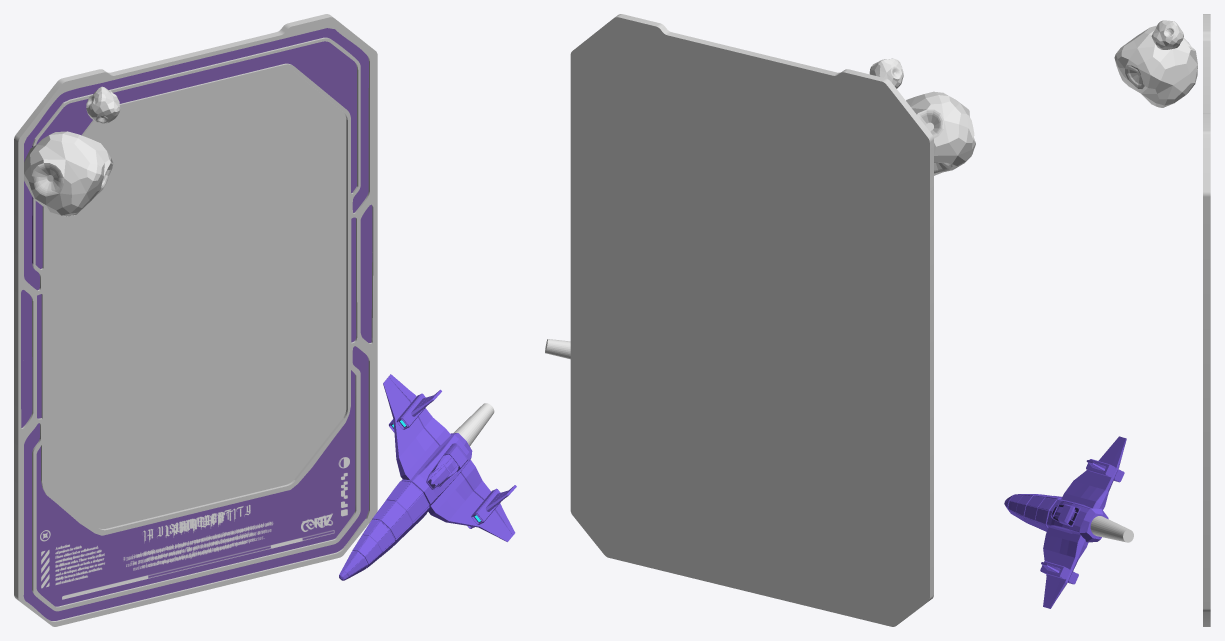
File: card-work-w-all-textures.glb
3 views of the same model, side by side, from view 1: azimuth 30°, elevation 25°; view 2: azimuth 150°, elevation 25°; view 3: azimuth 270°, elevation 25° (orthographic). The views are drawn at different scales.
Parts seen in each view (by area): view 1: PortalPlane, Cube.002, Turbinas, asteroid, wortise-texturev1, shopflex-texturev1, card-texturev1, asteroid.001, Propulsion-shape; view 2: Cube.002, asteroid, asteroid.001; view 3: Turbinas, Cube.002, asteroid, Propulsion-shape, asteroid.001.
Boxes of the visible parts, x1,y1,x2,y2 form: PortalPlane: [47, 68, 346, 528]; Cube.002: [14, 14, 377, 626]; Turbinas: [339, 374, 516, 580]; asteroid: [24, 131, 113, 216]; wortise-texturev1: [40, 457, 349, 599]; shopflex-texturev1: [40, 457, 346, 596]; card-texturev1: [40, 457, 349, 599]; asteroid.001: [86, 86, 120, 123]; Propulsion-shape: [453, 403, 494, 446]; Cube.002: [570, 14, 933, 626]; asteroid: [906, 91, 975, 175]; asteroid.001: [869, 58, 903, 88]; Turbinas: [1004, 436, 1126, 608]; Cube.002: [1203, 14, 1210, 626]; asteroid: [1114, 25, 1197, 107]; Propulsion-shape: [1090, 516, 1133, 542]; asteroid.001: [1151, 20, 1183, 49].
Size of the model in its own units: 2.06 by 2.4 by 0.9102.
13 materials, 4 textured.
